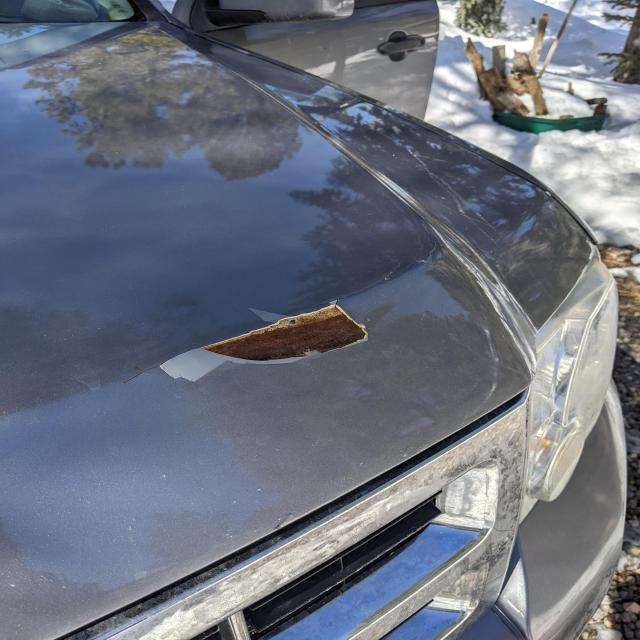scratch: (121, 241, 439, 385)
